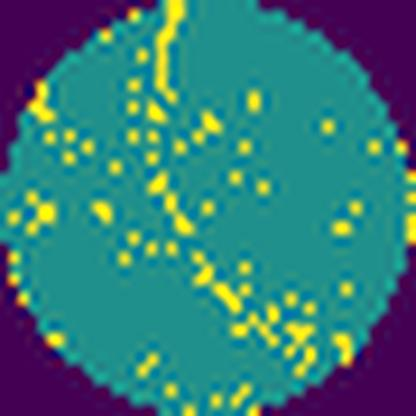Scratch: (150, 0, 190, 108)
